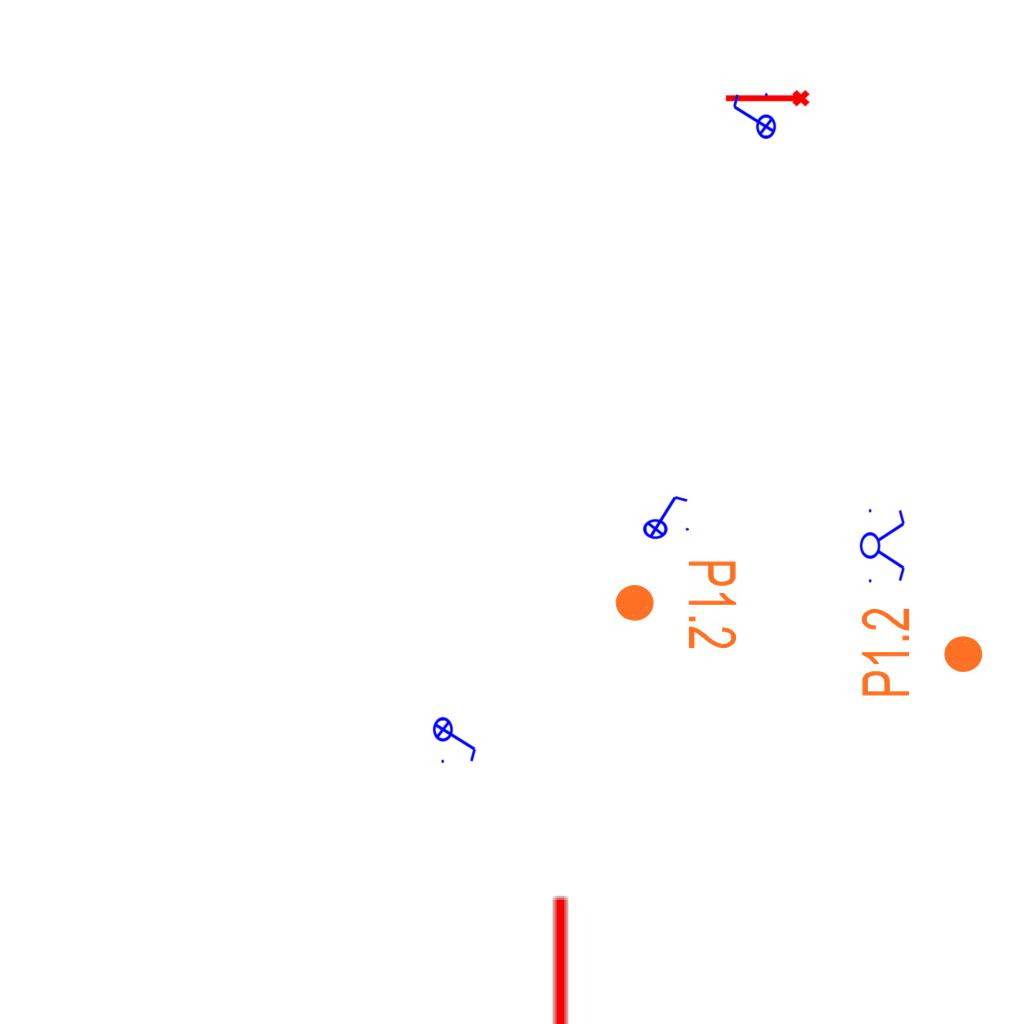ASR_Ansaugoeffnung: (535, 892, 581, 1024), (723, 88, 811, 111)
Ausschalter_beleuchtet: (636, 492, 692, 540), (432, 710, 480, 766), (729, 90, 777, 146)
Downlight_LED_Einbauleuchten_Flur: (612, 558, 740, 651), (858, 606, 986, 699)
Serienschalter: (859, 503, 907, 587)
